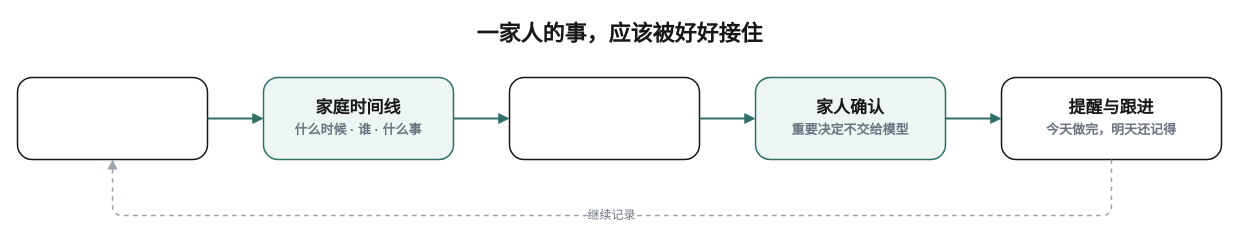
Some shapes in this 1240 by 241 pixel diagram are drawn without their labels. Each missing label, with the centre of its shape:
"AI 整理 检索 · 总结 · 找证据" goes at [604,118].
"随手记录 任务 · 语音 · 文件" goes at [112,118].
